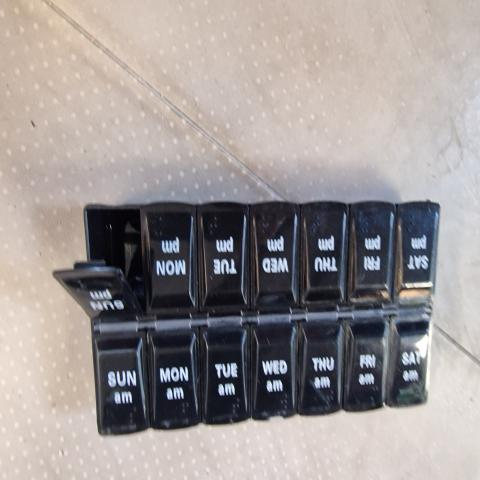Open: (79, 209, 150, 311)
